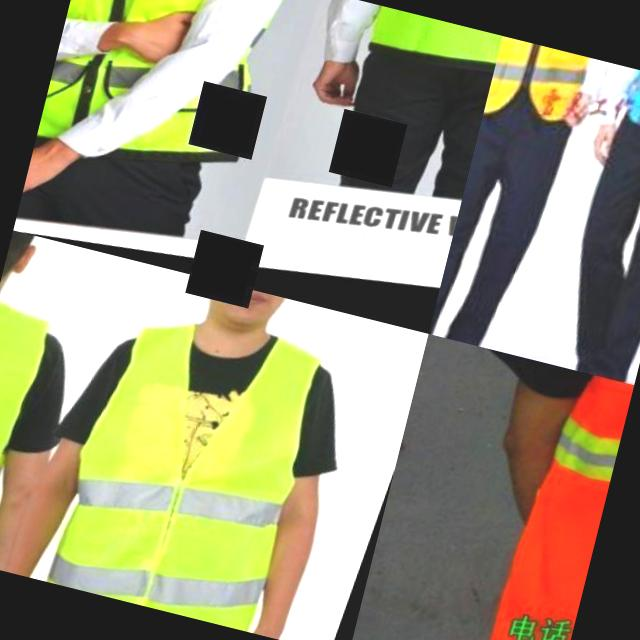vest: (55, 302, 346, 638), (36, 0, 282, 185), (506, 368, 634, 620), (0, 304, 66, 571), (481, 36, 615, 149), (614, 68, 640, 155)
